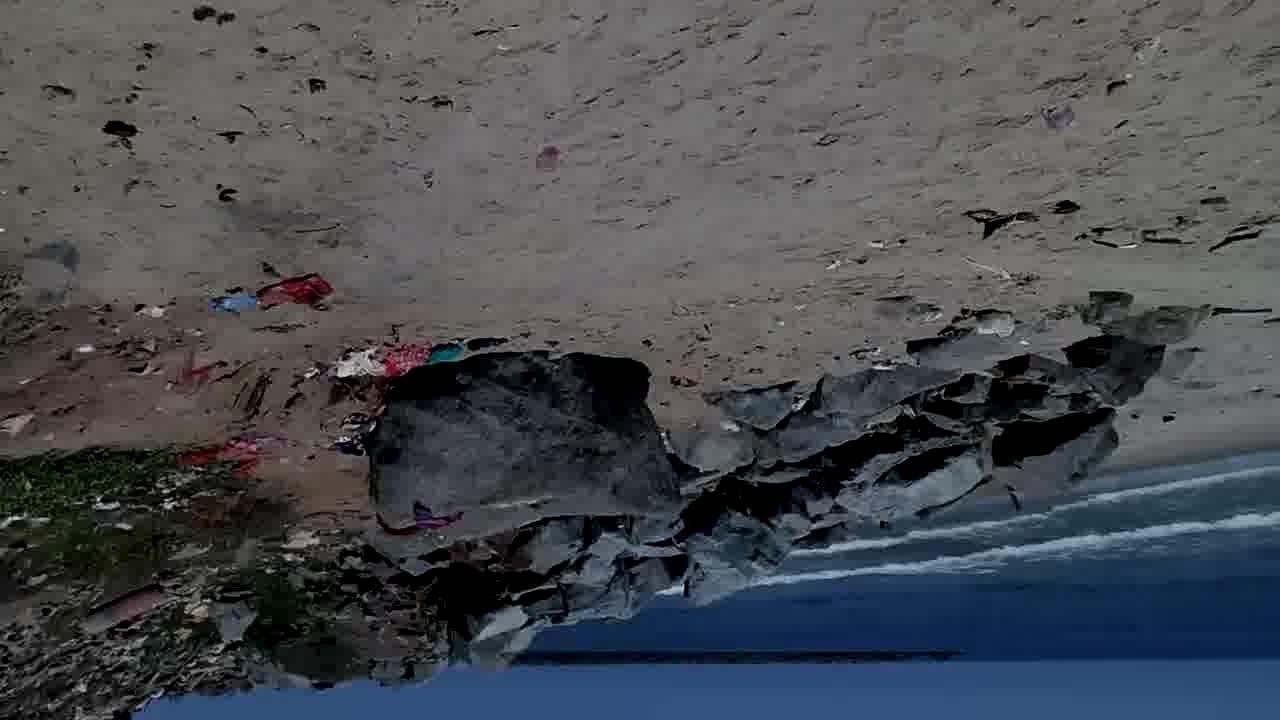obj: (7, 445, 235, 587), (196, 262, 346, 324), (175, 432, 260, 478), (958, 202, 1054, 242), (376, 500, 464, 542), (382, 339, 510, 367), (246, 551, 290, 632), (334, 342, 386, 379), (191, 1, 234, 30), (102, 122, 146, 148), (126, 304, 175, 322)
sand/background: (0, 256, 1280, 719)
